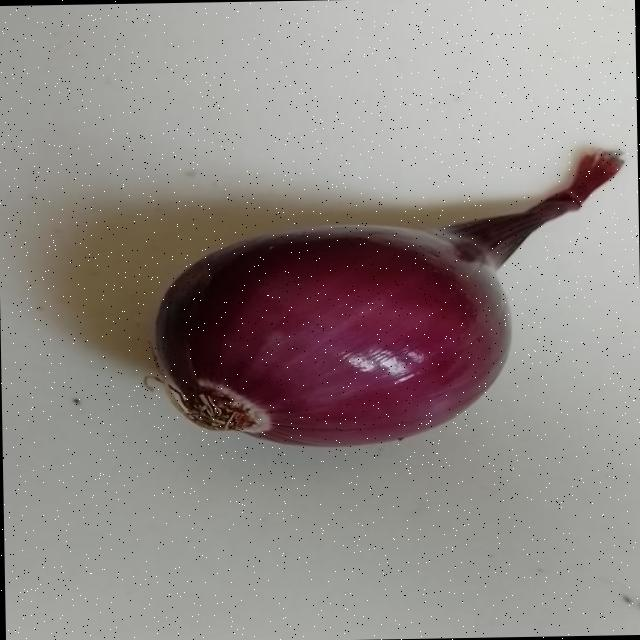Onion: (155, 152, 623, 445)
